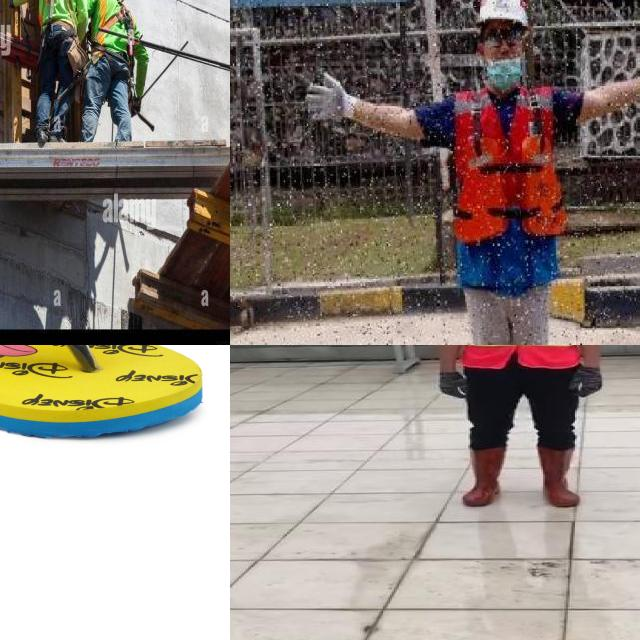Harness: (94, 0, 136, 91), (32, 0, 80, 68)
Sandals: (0, 345, 204, 439)
boots: (534, 443, 582, 508), (460, 446, 510, 507)
head_helmet: (476, 0, 530, 25)
person: (423, 345, 613, 511)
vest: (444, 74, 588, 298), (454, 345, 584, 371)
